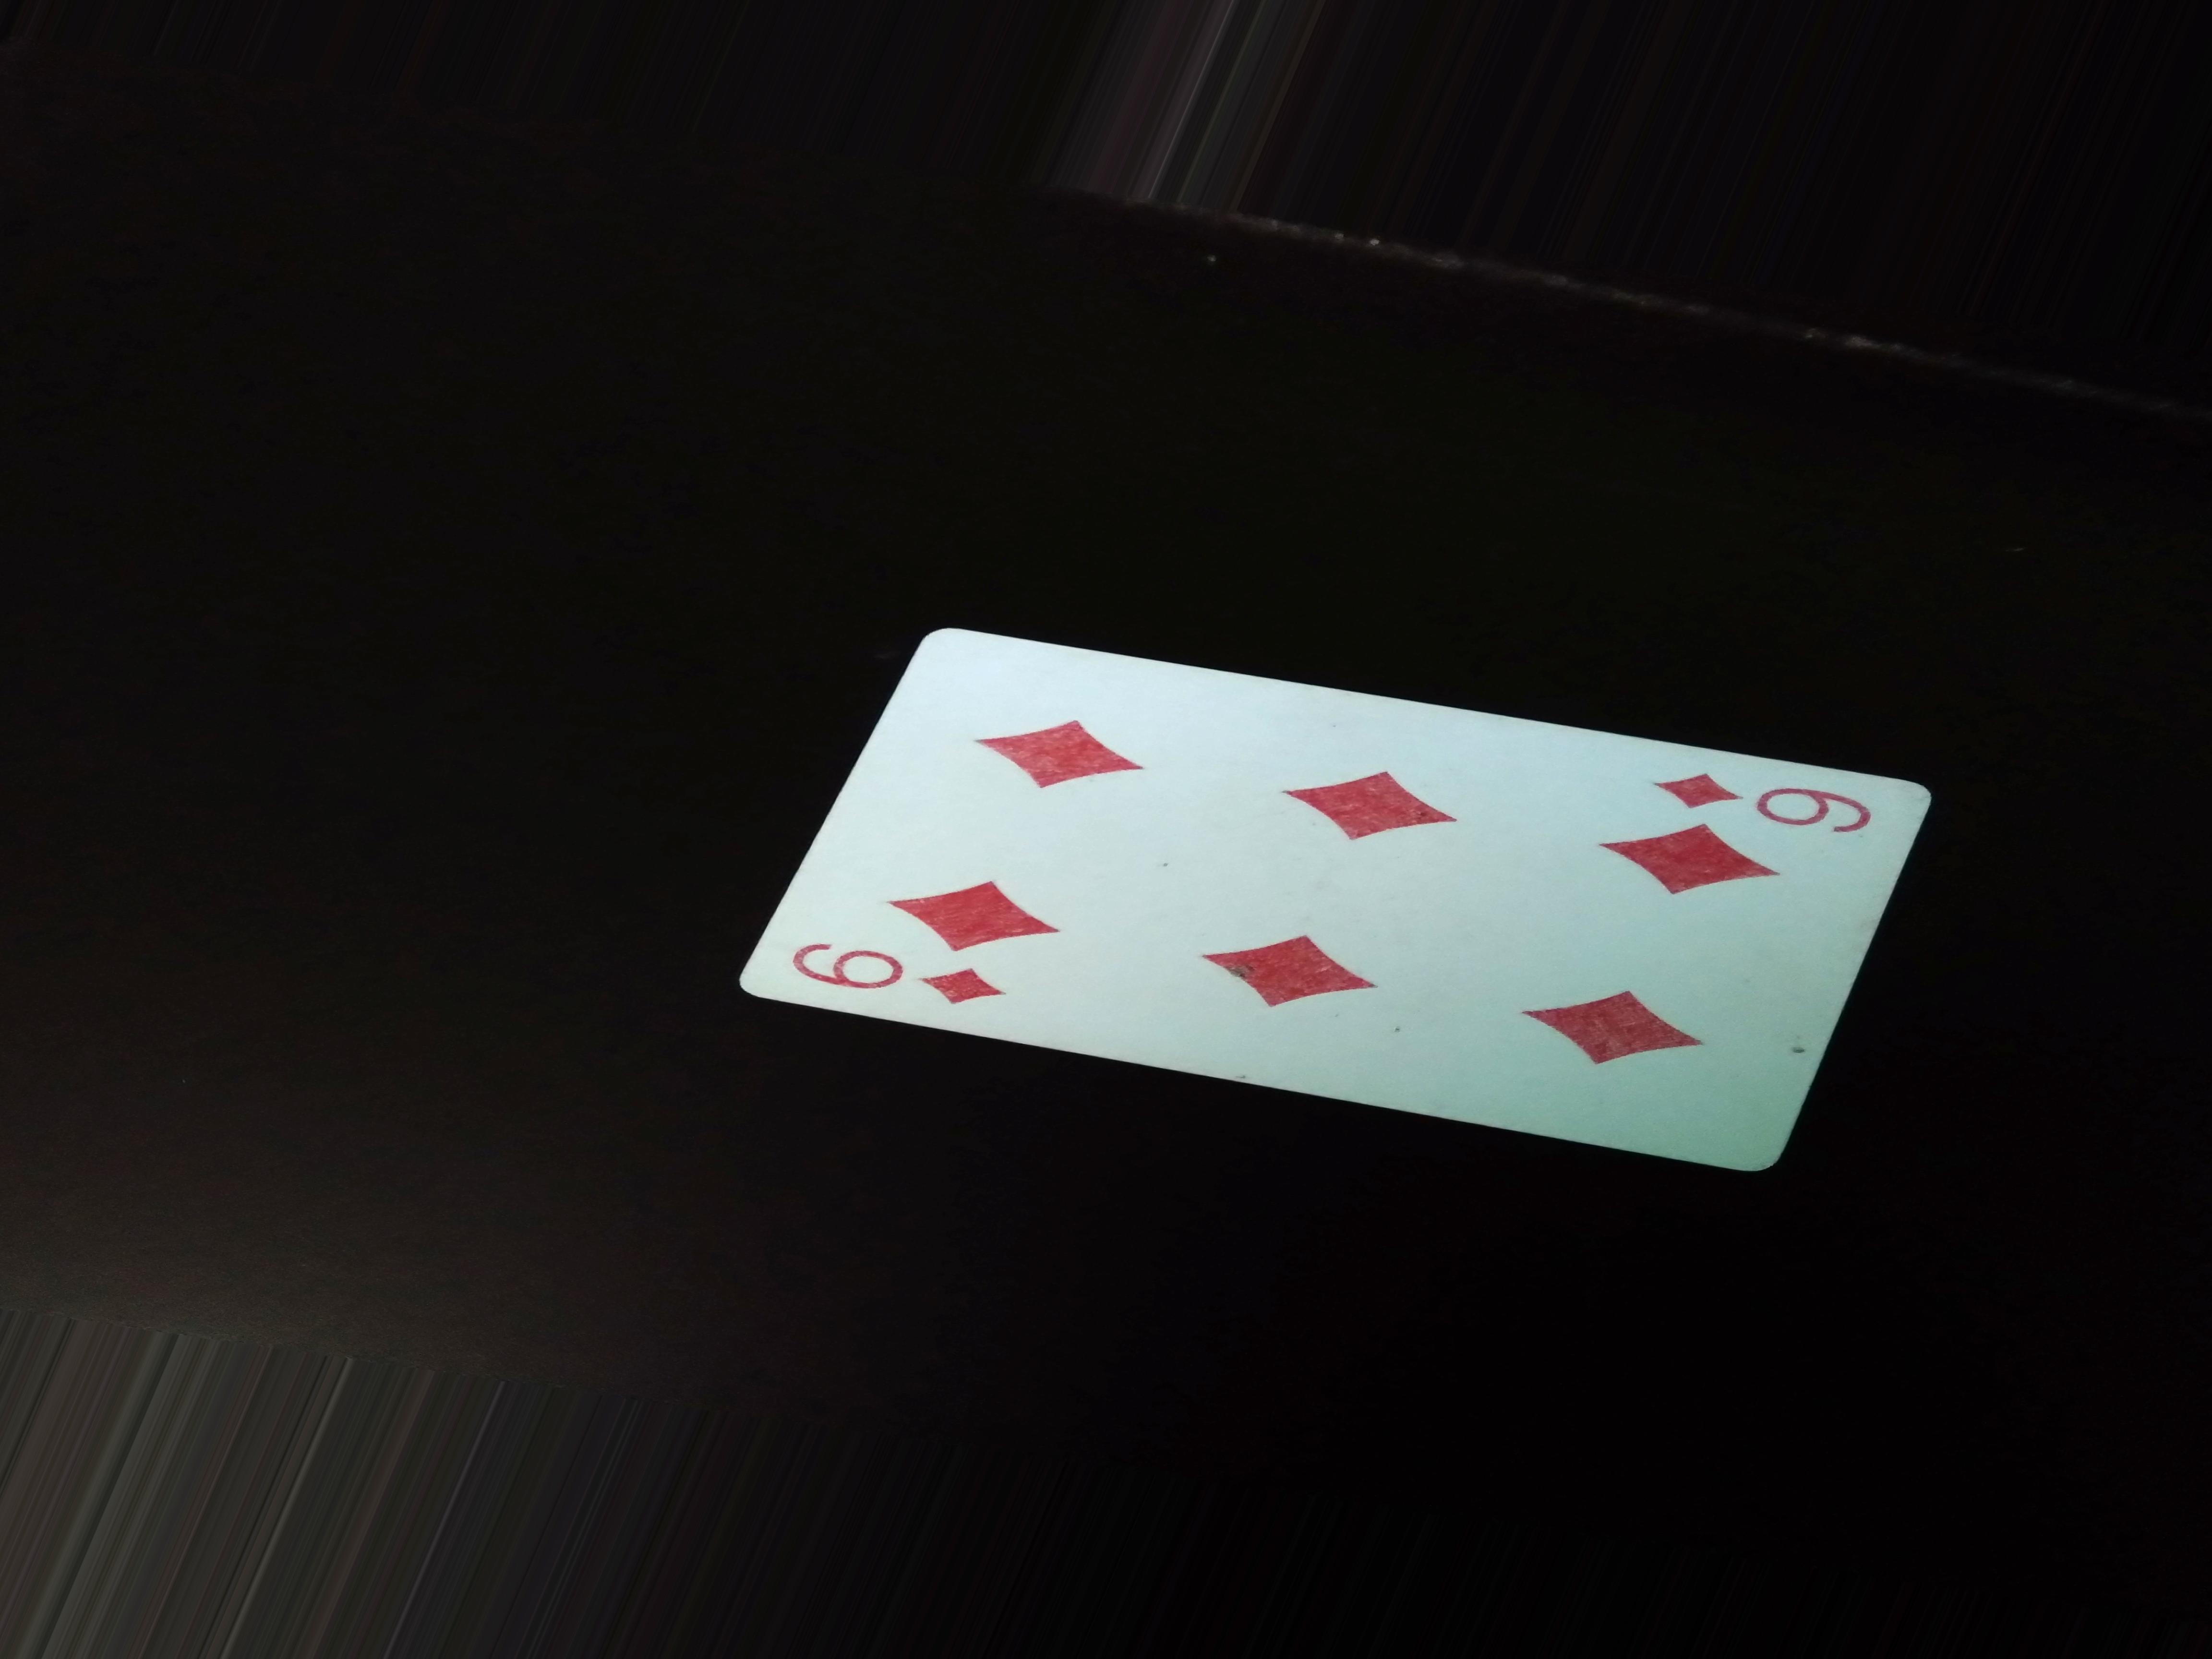6D: (1637, 753, 1925, 849)
